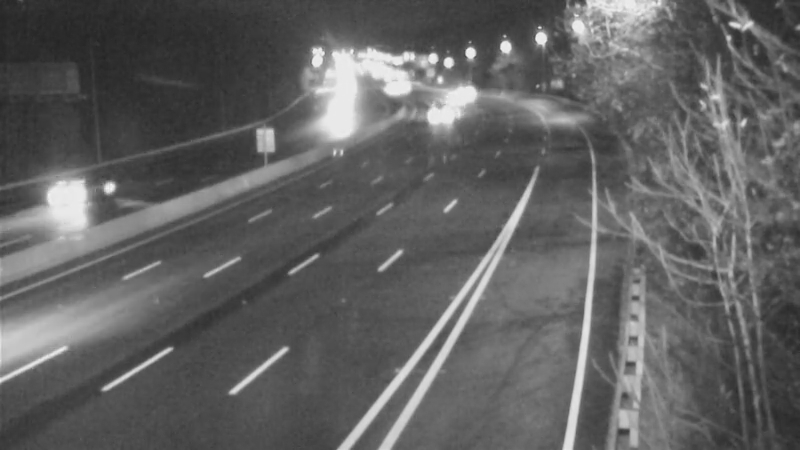vehicle: (27, 159, 107, 239), (408, 91, 458, 141), (430, 71, 480, 121), (310, 101, 360, 151)
